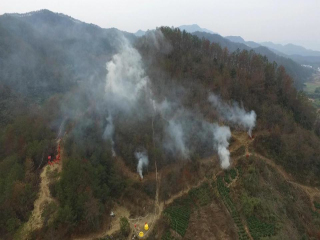smoke: (91, 35, 258, 175)
